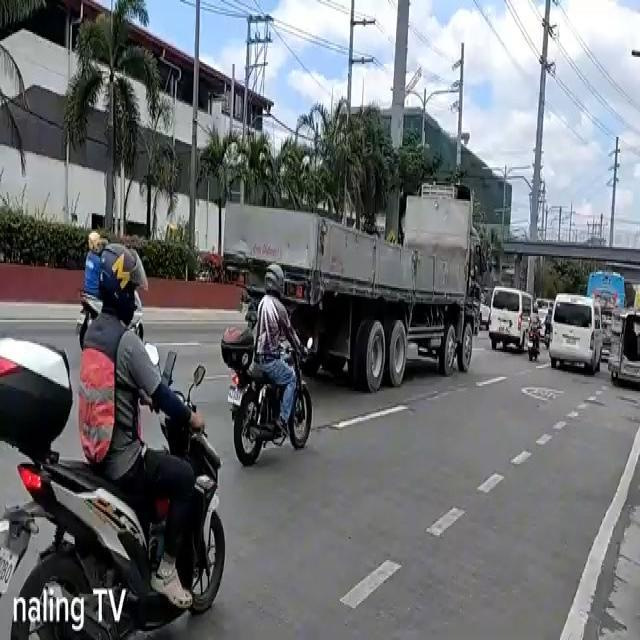bus: (586, 272, 626, 349)
jeepney: (608, 307, 640, 385)
motorcycle: (1, 243, 224, 640), (221, 260, 315, 463), (78, 231, 148, 353), (526, 301, 540, 363), (542, 308, 552, 348)
truck: (224, 178, 484, 394)
